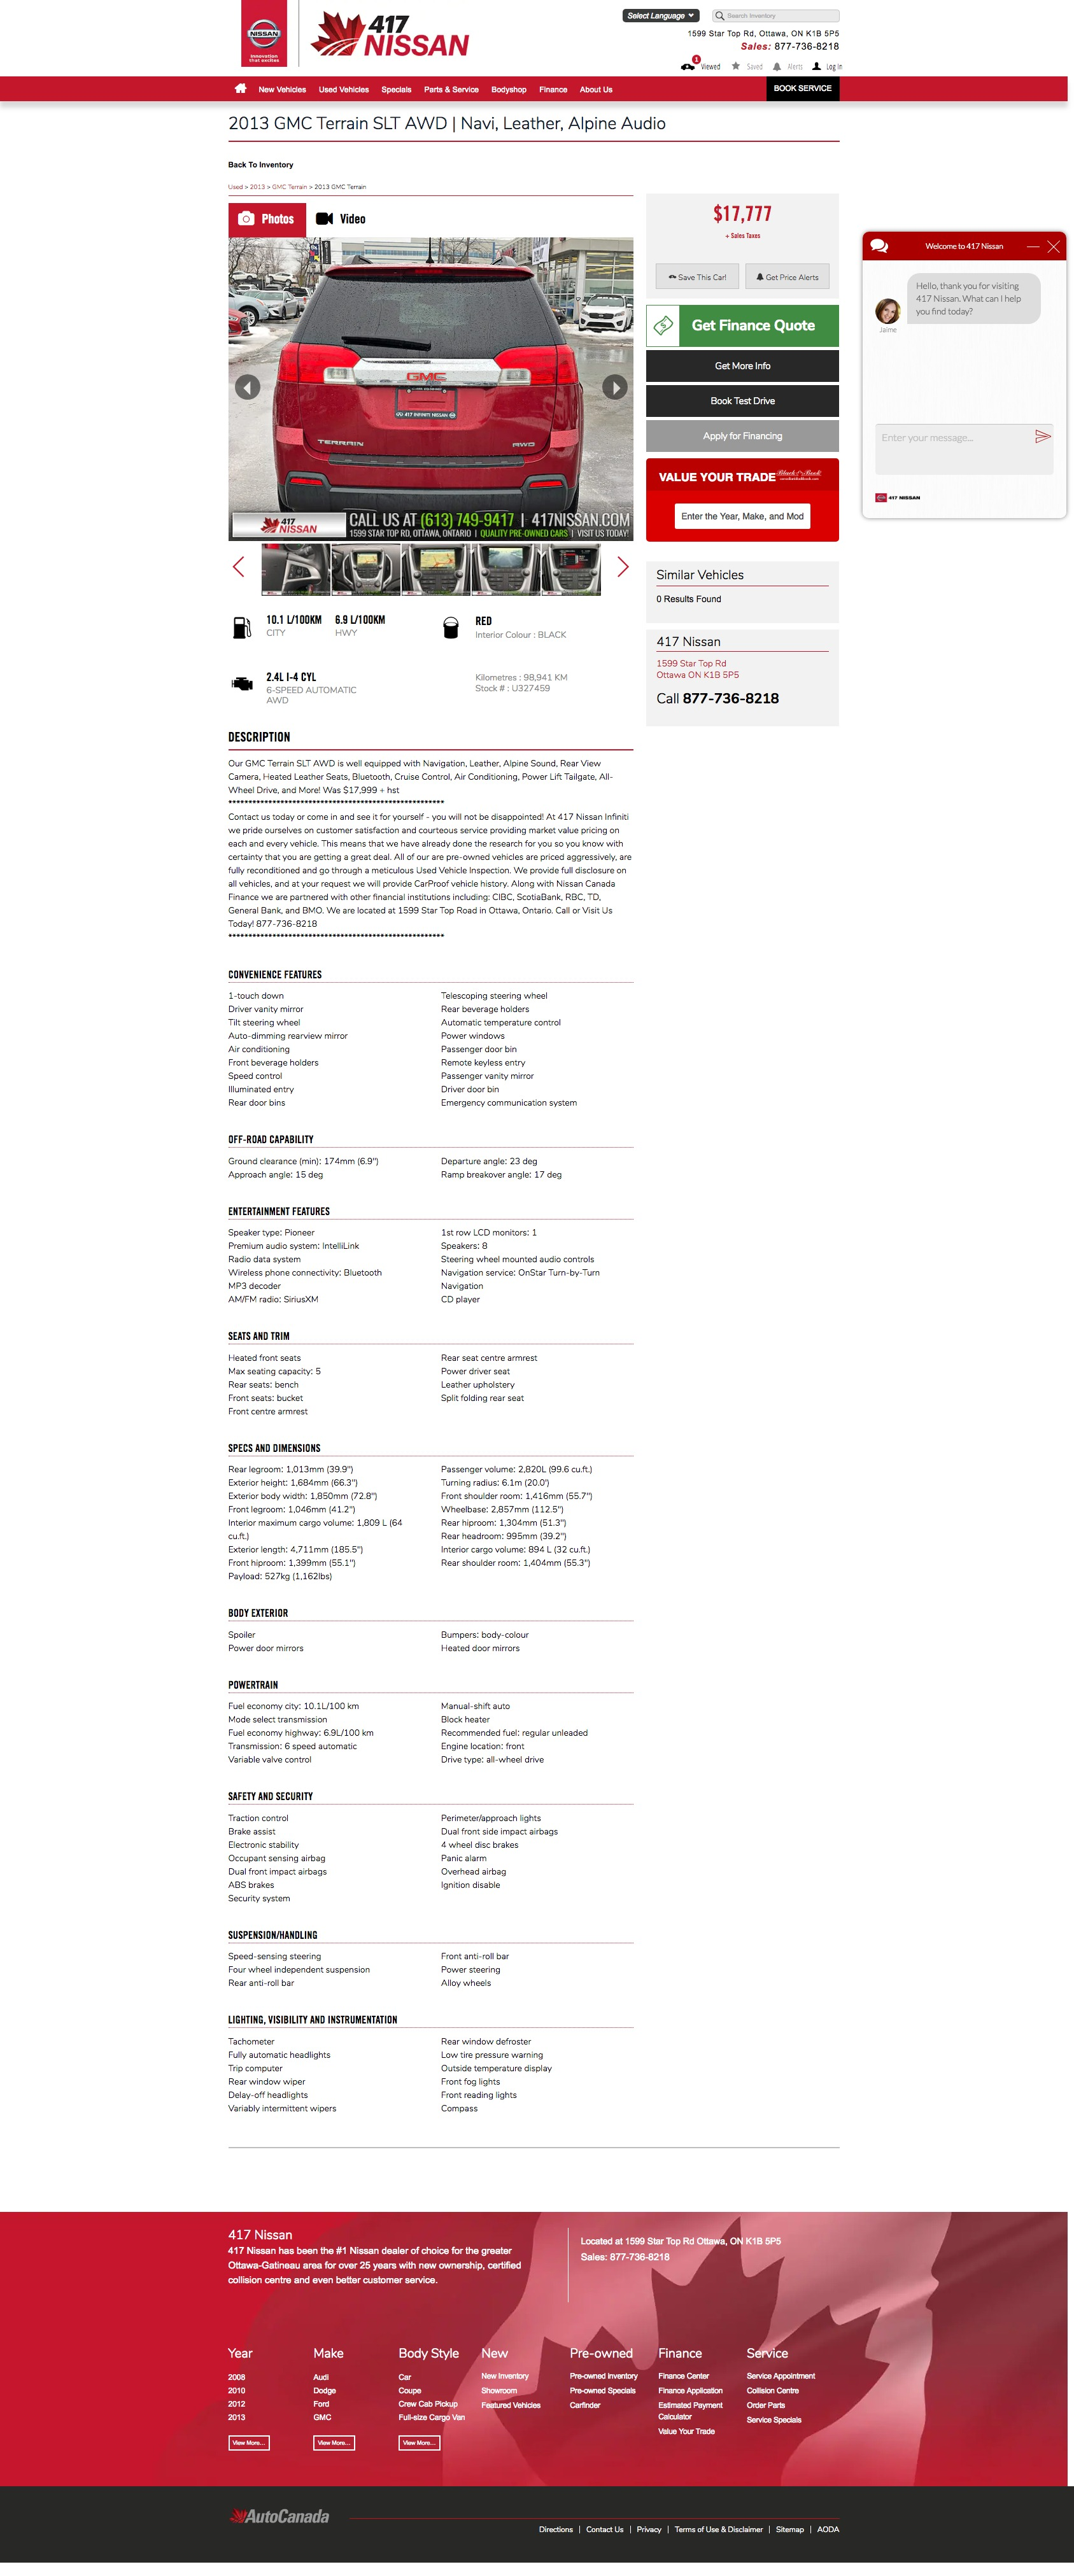car: (613, 554, 634, 582)
